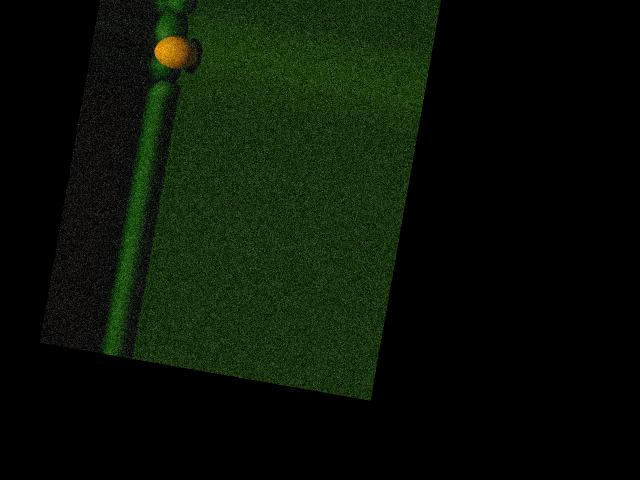egg: (152, 32, 200, 72)
